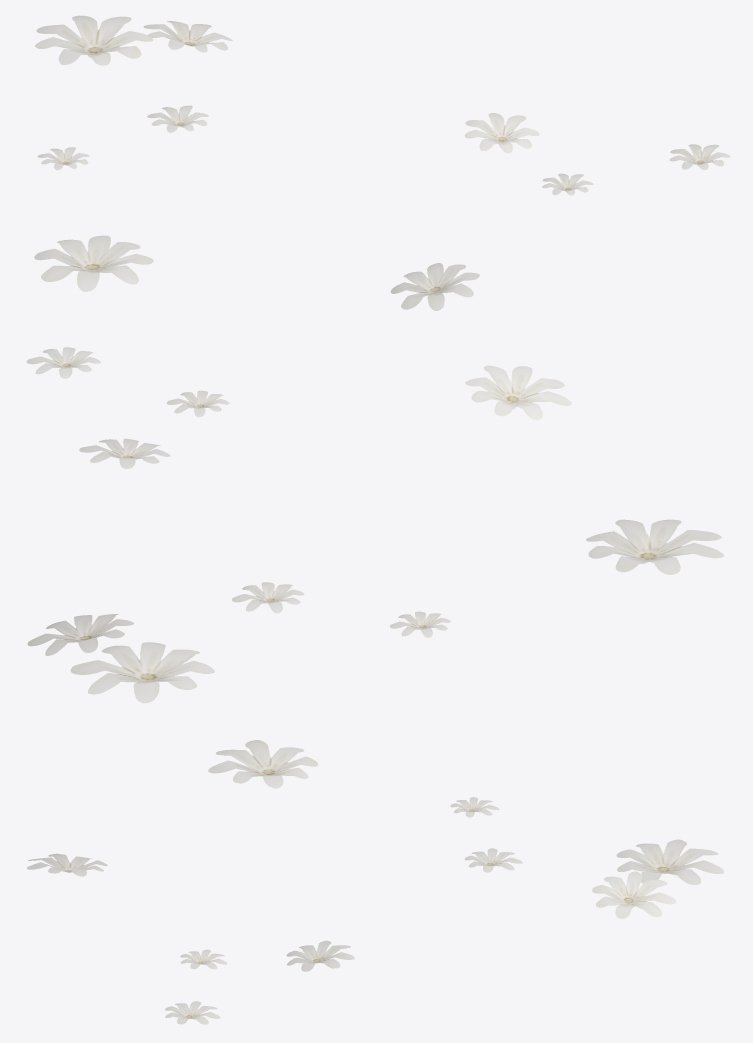
File: flores_piso.fbx
The picture shows the model from 3 angles, top to bottom: view 1: azimuth 30°, elevation 25°; view 2: azimuth 150°, elevation 25°; view 3: azimuth 270°, elevation 25°; orthographic projection. The views are drawn at different scales.
Visible parts, largest first — view 1: flores; view 2: flores; view 3: flores.
Boxes of the visible parts, box(x1,y1,x2,y2) form: flores: box(34, 15, 730, 310); flores: box(26, 347, 723, 703); flores: box(27, 740, 723, 1024).
Bounding box in the file's own units: 823 × 23.44 × 867.
1 material, 1 textured.
